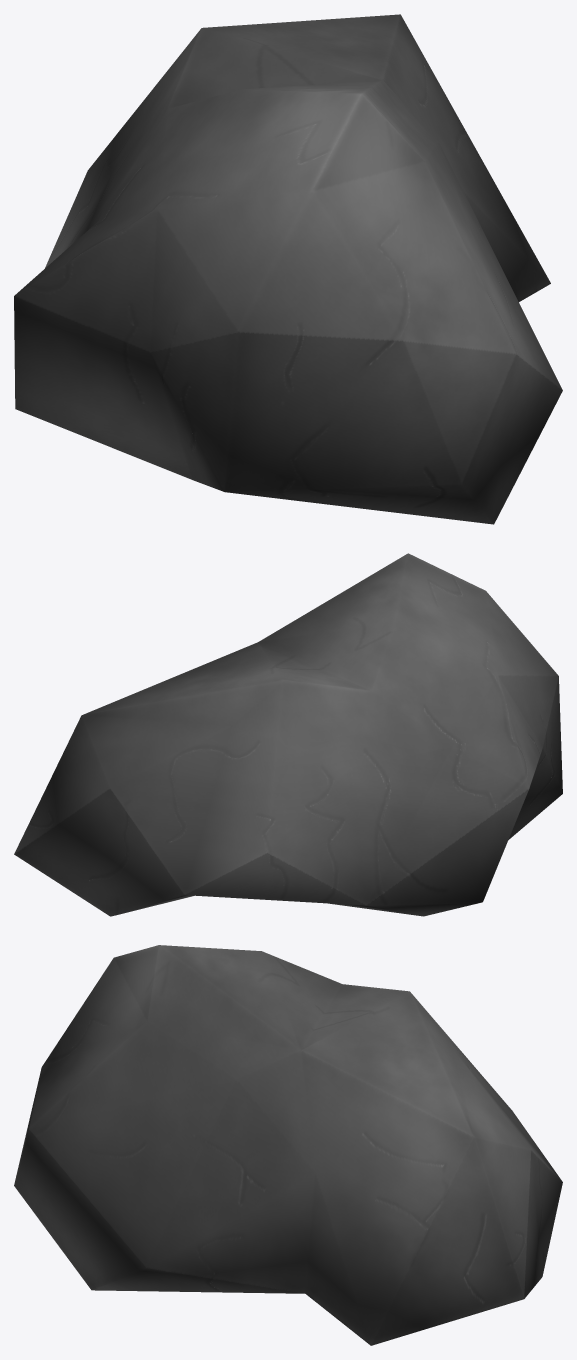
Rendered from blendertimer-boulder-4231.glb.
3 renders of one model, top to bottom at view 1: azimuth 30°, elevation 25°; view 2: azimuth 150°, elevation 25°; view 3: azimuth 270°, elevation 25°, orthographic. The views are drawn at different scales.
Visible parts, largest first — view 1: Boulder Baked; view 2: Boulder Baked; view 3: Boulder Baked.
Boxes of the visible parts, x1,y1,x2,y2 form: Boulder Baked: (14, 14, 562, 524); Boulder Baked: (14, 553, 562, 916); Boulder Baked: (14, 945, 562, 1345).
Size of the model in its own units: 1.7 by 1.15 by 1.83.
1 material, 1 textured.
